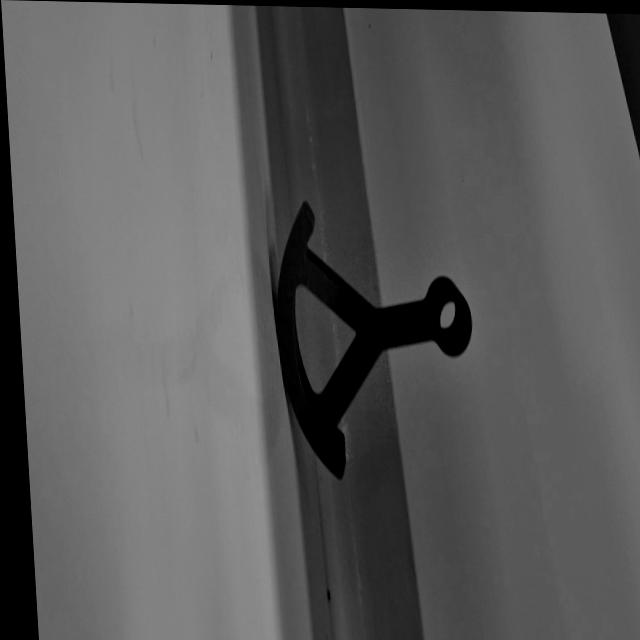haptic: (265, 197, 482, 486)
